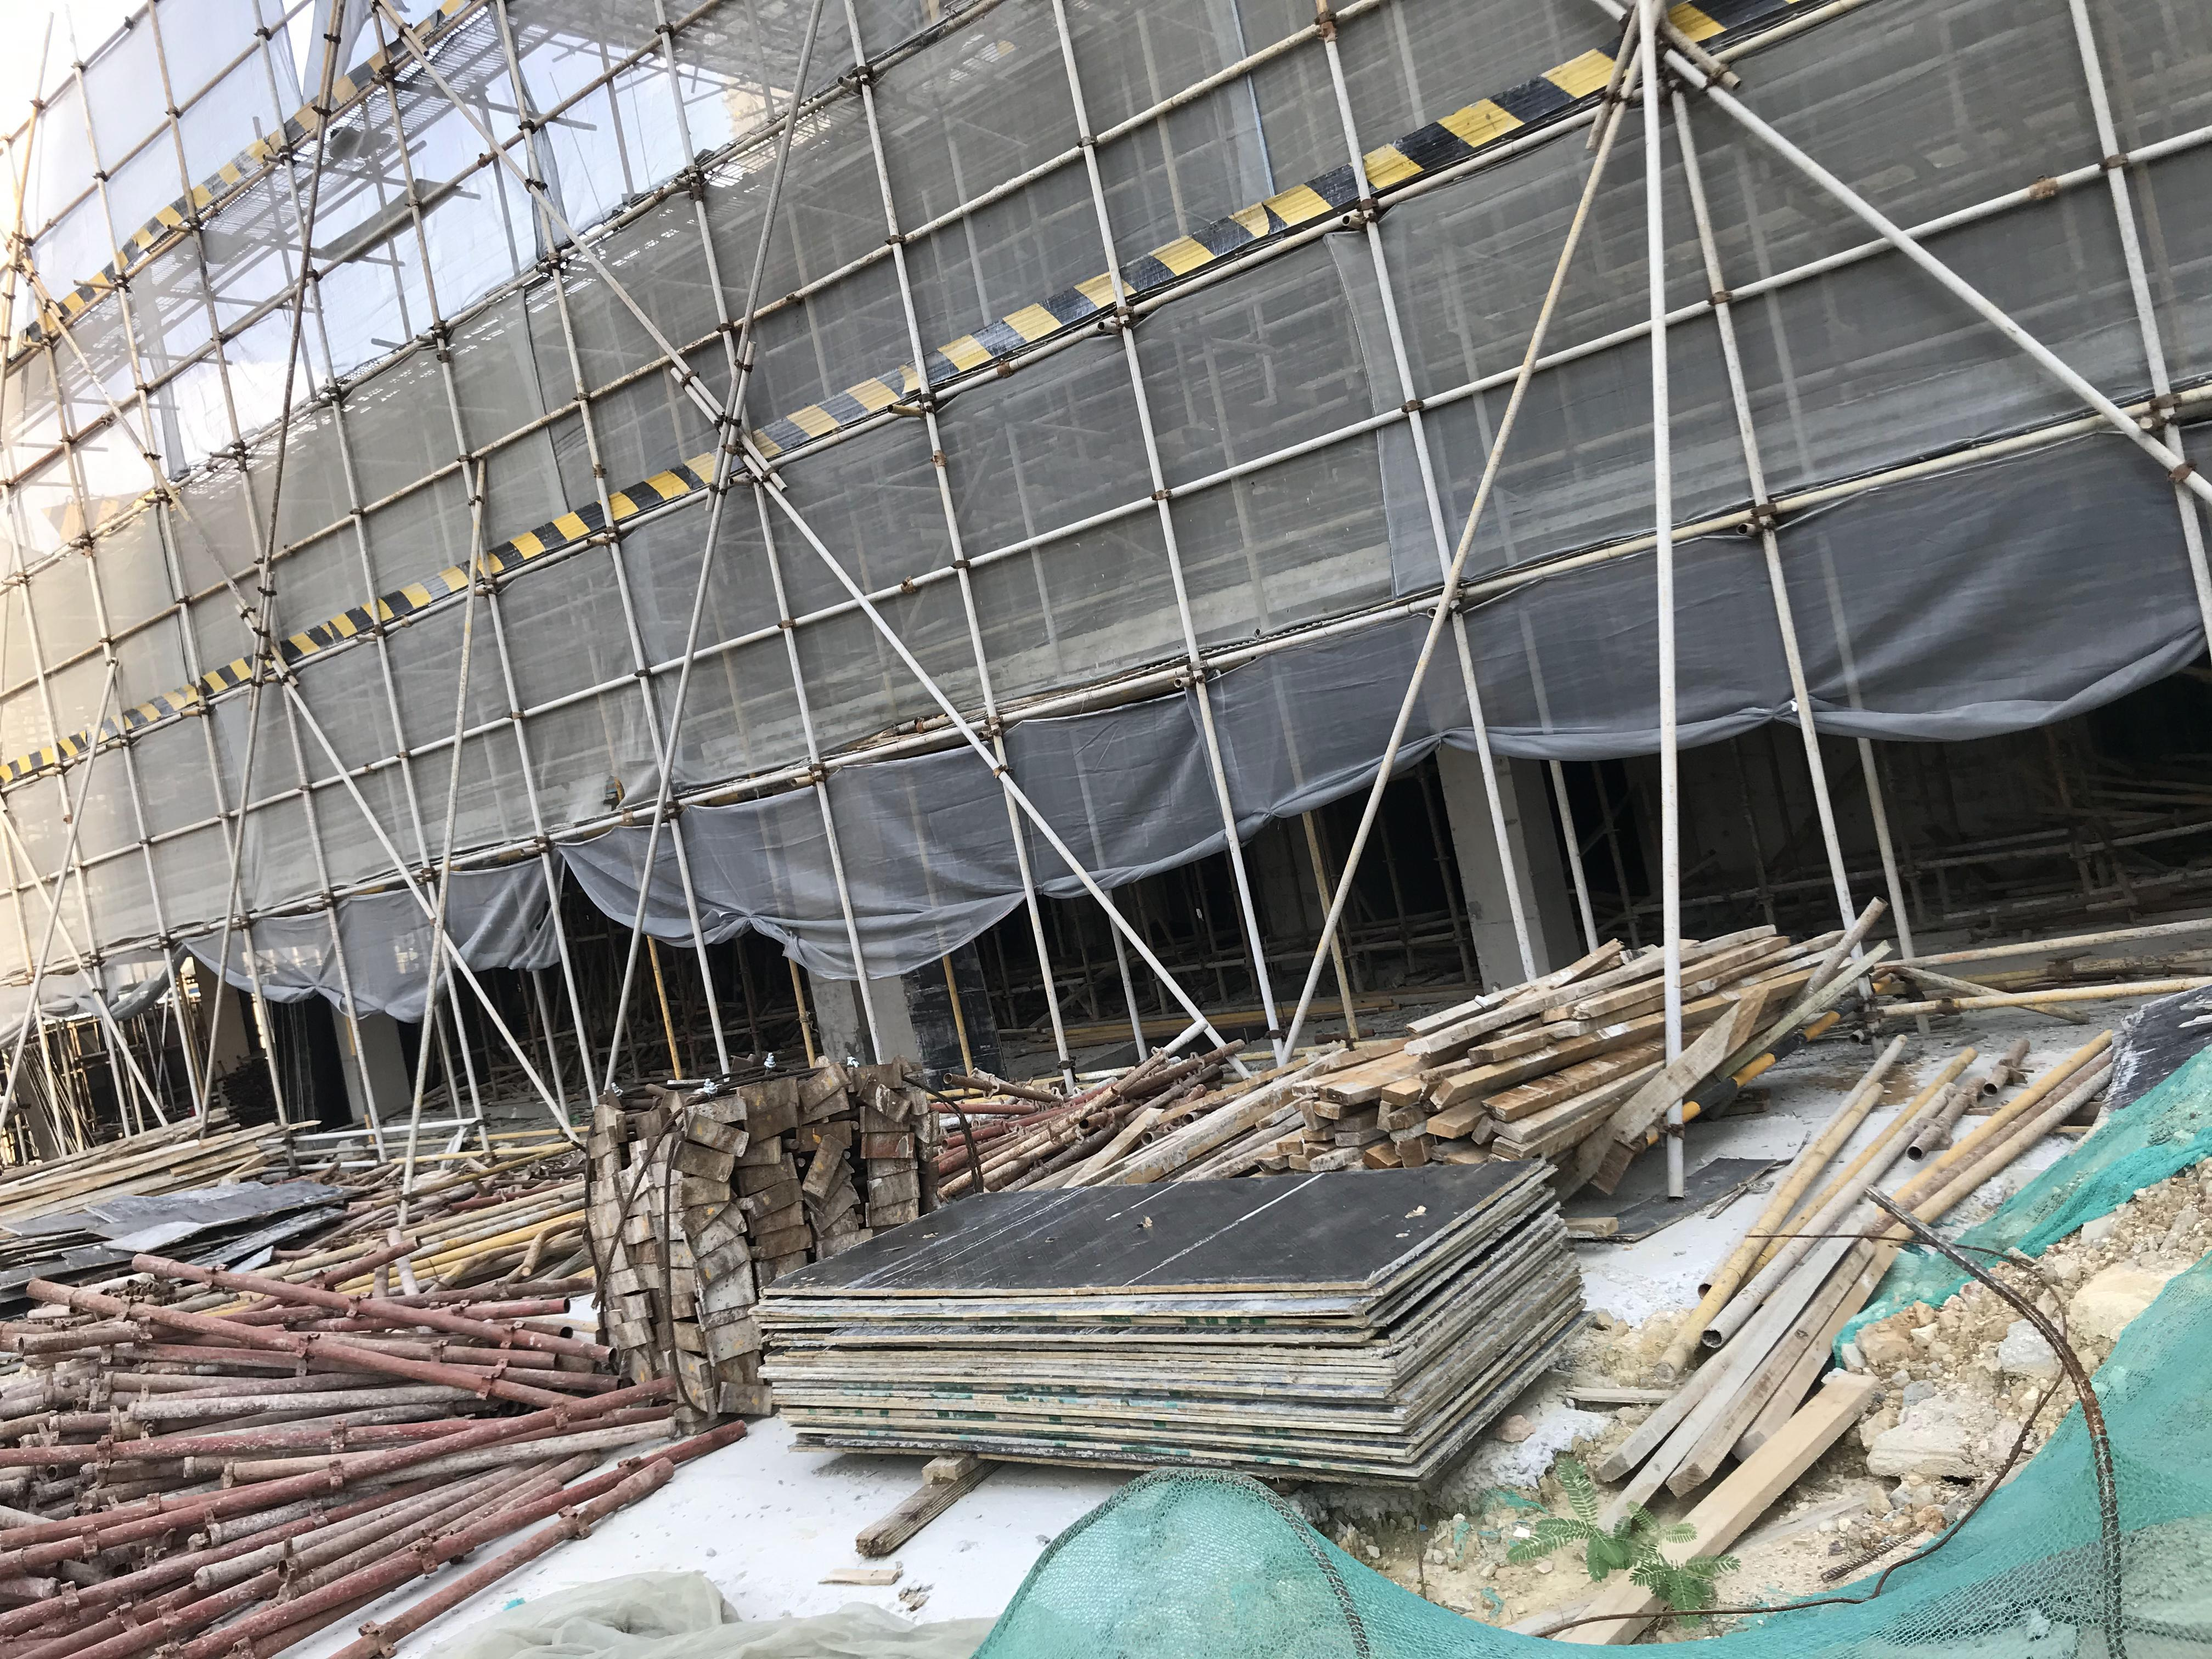board: (763, 1152, 1590, 1476)
wood: (1291, 924, 1831, 1166)
